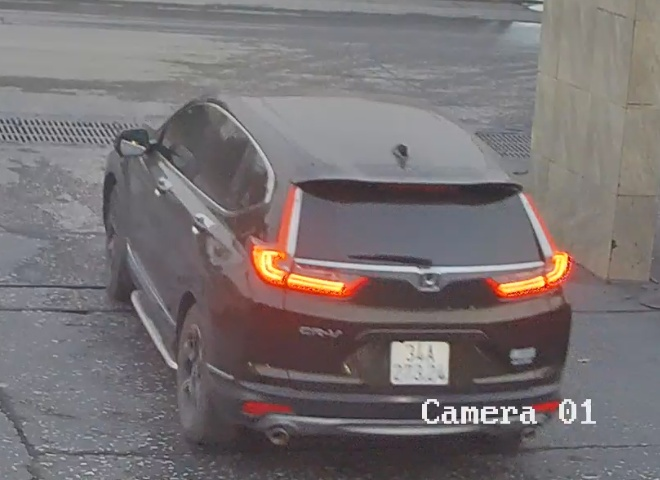vehicle plate: (383, 330, 451, 390)
